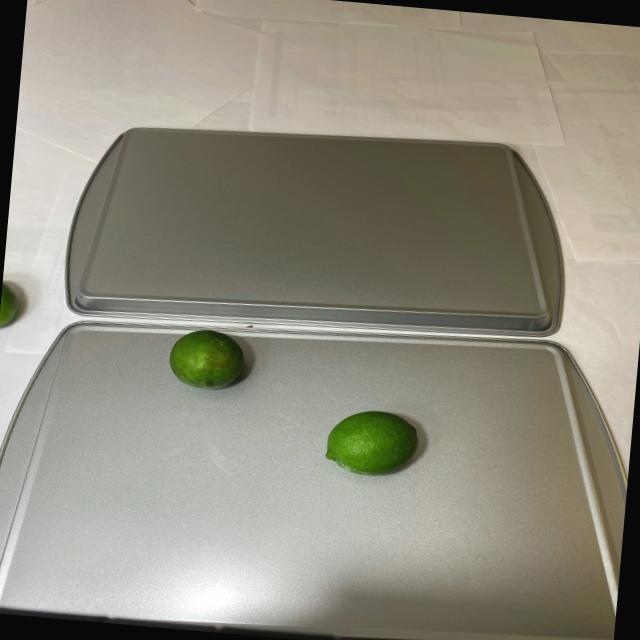lemon: (317, 402, 422, 482), (160, 326, 252, 395)
